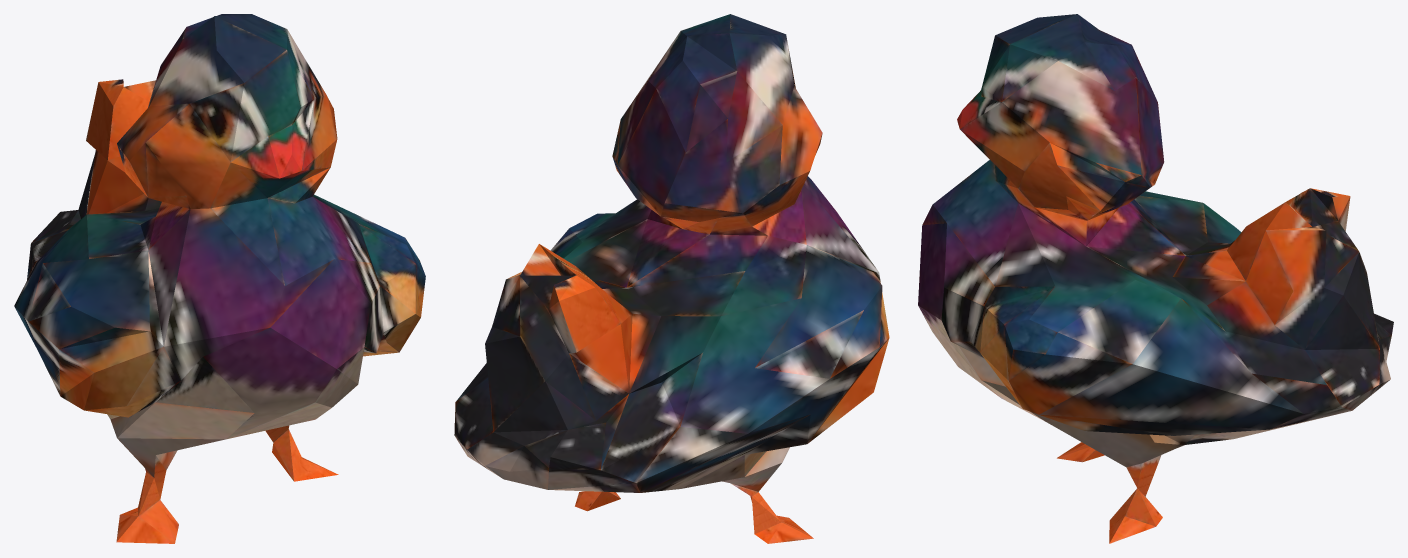
Rendered from duck-stranger-lod.glb.
3 views of the same model, side by side, from view 1: azimuth 30°, elevation 25°; view 2: azimuth 150°, elevation 25°; view 3: azimuth 270°, elevation 25° (orthographic). The views are drawn at different scales.
Parts seen in each view (by area): view 1: output_unwrapped; view 2: output_unwrapped; view 3: output_unwrapped.
Part boxes in pixels (left/top/right/bottom): output_unwrapped: left=14, top=14, right=425, bottom=543; output_unwrapped: left=454, top=14, right=889, bottom=543; output_unwrapped: left=918, top=14, right=1393, bottom=543.
Size of the model in its own units: 0.3207 by 0.45 by 0.4154.
1 material, 1 textured.
